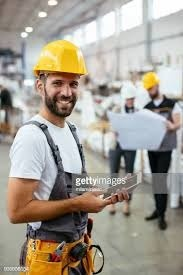helmet: (35, 40, 87, 79), (142, 72, 160, 90)
person with partial safety: (9, 39, 105, 271), (138, 69, 176, 231)
